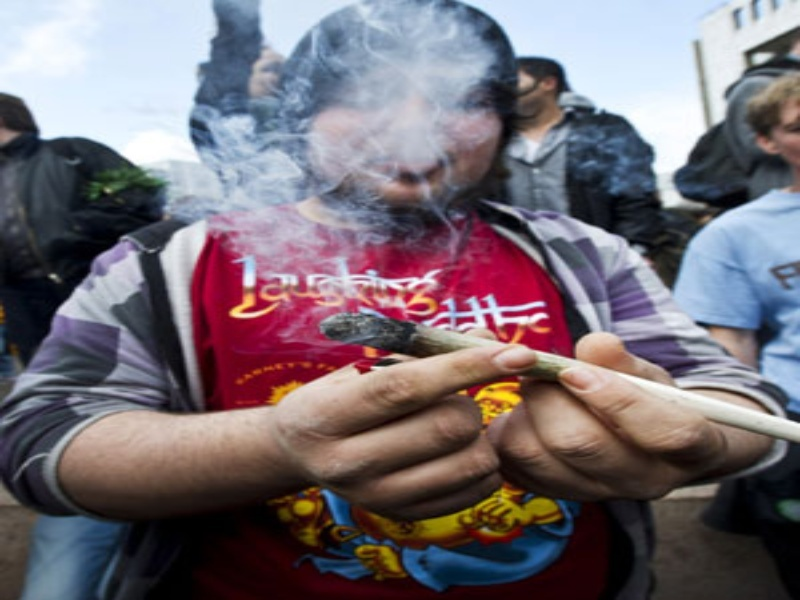smoke: (168, 1, 463, 292)
